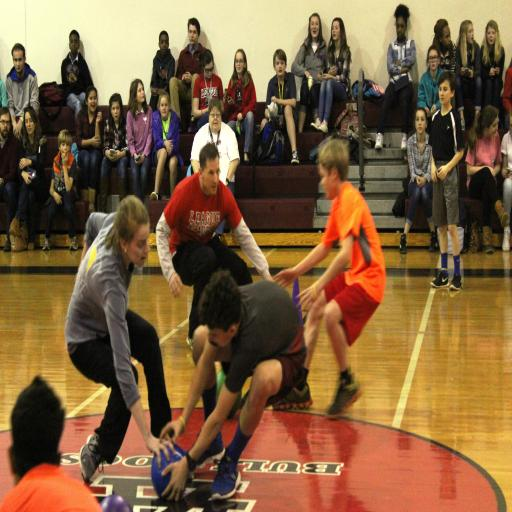person: (161, 271, 305, 500), (276, 139, 385, 418), (65, 196, 171, 481), (156, 143, 271, 342), (0, 376, 101, 511), (430, 72, 464, 290), (466, 106, 508, 253), (375, 4, 416, 150), (400, 107, 437, 253), (10, 107, 47, 250), (191, 99, 239, 195), (311, 18, 351, 133), (261, 49, 299, 164), (43, 130, 77, 251), (292, 13, 326, 132), (169, 18, 204, 121), (150, 91, 183, 200), (225, 49, 256, 164), (99, 94, 129, 212), (76, 86, 103, 212), (127, 79, 153, 202), (6, 44, 39, 139), (456, 20, 482, 130), (61, 30, 93, 119), (0, 107, 18, 251), (192, 49, 224, 129), (481, 20, 505, 109), (150, 31, 175, 111), (418, 45, 442, 117), (502, 110, 511, 251), (433, 19, 456, 72), (503, 60, 511, 129), (0, 79, 7, 107)
